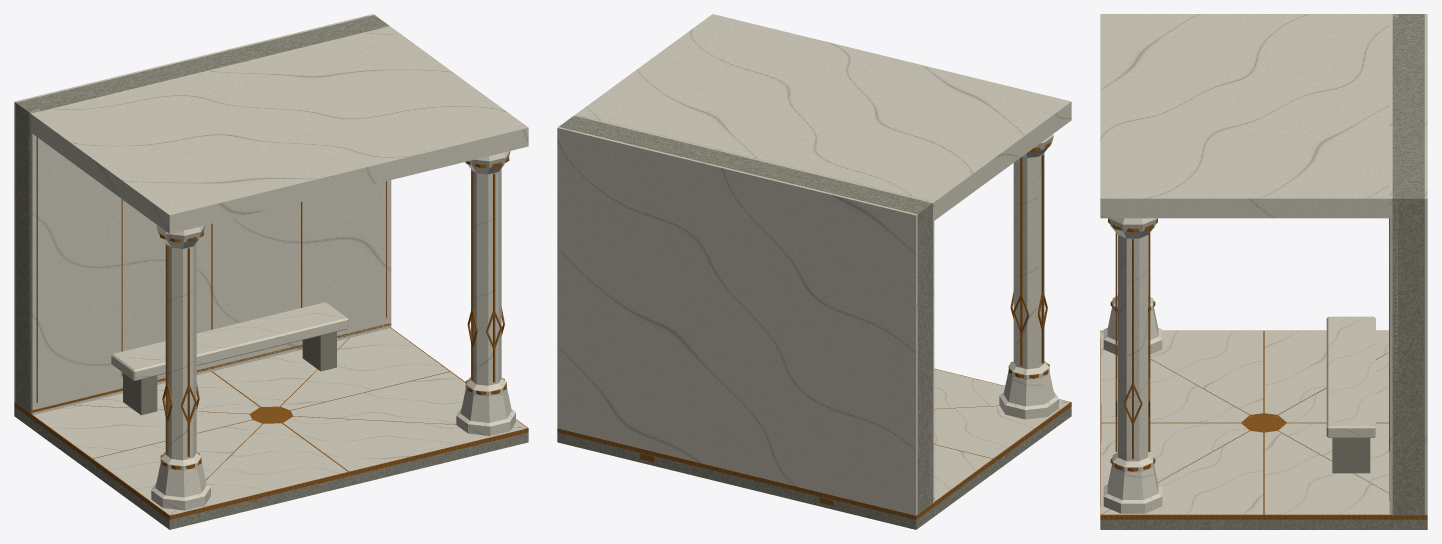
3 views of the same model, side by side, from view 1: azimuth 30°, elevation 25°; view 2: azimuth 150°, elevation 25°; view 3: azimuth 270°, elevation 25° (orthographic). The views are drawn at different scales.
Visible parts, largest first — view 1: Portico stone shade lintel, Replaceable marble facing panel, Bearing masonry wall segment, Marble pier stepped octagonal facing, Marble pier stepped octagonal facing.001, Replaceable flush radial marble floor sector.001, Quiet portico bench seat, Replaceable flush radial marble floor sector, Replaceable flush radial marble floor sector.003, Replaceable flush radial marble floor sector.006, Stone floor substrate, Replaceable flush radial marble floor sector.002 (+13 smaller); view 2: Replaceable marble facing panel.001, Portico stone shade lintel, Bearing masonry wall segment, Marble pier stepped octagonal facing, Stone floor substrate, Replaceable flush radial marble floor sector.007, Recessed continuous bronze inlay bed, Replaceable flush radial marble floor sector, Replaceable flush radial marble floor sector.006, Replaceable marble facing panel, Vertical bronze facing rail.002, Vertical bronze facing rail.001; view 3: Portico stone shade lintel, Bearing masonry wall segment, Marble pier stepped octagonal facing.001, Replaceable flush radial marble floor sector.003, Replaceable flush radial marble floor sector.002, Replaceable flush radial marble floor sector.007, Quiet portico bench seat, Replaceable flush radial marble floor sector.006, Replaceable flush radial marble floor sector, Replaceable flush radial marble floor sector.001, Recessed continuous bronze inlay bed, Stone floor substrate (+11 smaller).
Part boxes in pixels (<box>): Portico stone shade lintel: <box>32,27,528,233</box>; Replaceable marble facing panel: <box>31,26,391,414</box>; Bearing masonry wall segment: <box>15,15,389,413</box>; Marble pier stepped octagonal facing: <box>151,196,210,510</box>; Marble pier stepped octagonal facing.001: <box>456,122,515,435</box>; Replaceable flush radial marble floor sector.001: <box>283,416,526,471</box>; Quiet portico bench seat: <box>111,302,348,380</box>; Replaceable flush radial marble floor sector: <box>171,423,347,515</box>; Replaceable flush radial marble floor sector.003: <box>280,328,449,410</box>; Replaceable flush radial marble floor sector.006: <box>33,405,251,458</box>; Stone floor substrate: <box>14,406,528,529</box>; Replaceable flush radial marble floor sector.002: <box>291,372,526,427</box>; Replaceable marble facing panel.001: <box>557,127,917,515</box>; Portico stone shade lintel: <box>575,14,1071,220</box>; Bearing masonry wall segment: <box>559,115,932,514</box>; Marble pier stepped octagonal facing: <box>999,105,1058,419</box>; Stone floor substrate: <box>557,406,1071,529</box>; Replaceable flush radial marble floor sector.007: <box>934,402,1069,458</box>; Recessed continuous bronze inlay bed: <box>557,368,1071,519</box>; Replaceable flush radial marble floor sector: <box>934,369,1068,408</box>; Replaceable flush radial marble floor sector.006: <box>934,445,991,501</box>; Replaceable marble facing panel: <box>575,114,934,502</box>; Vertical bronze facing rail.002: <box>1020,157,1022,365</box>; Vertical bronze facing rail.001: <box>1041,154,1043,363</box>; Portico stone shade lintel: <box>1100,14,1389,218</box>; Bearing masonry wall segment: <box>1392,14,1424,514</box>; Marble pier stepped octagonal facing.001: <box>1103,184,1162,513</box>; Replaceable flush radial marble floor sector.003: <box>1264,431,1389,514</box>; Replaceable flush radial marble floor sector.002: <box>1102,431,1263,514</box>; Replaceable flush radial marble floor sector.007: <box>1102,331,1263,414</box>; Quiet portico bench seat: <box>1326,316,1375,437</box>; Replaceable flush radial marble floor sector.006: <box>1264,331,1388,414</box>; Replaceable flush radial marble floor sector: <box>1100,331,1249,422</box>; Replaceable flush radial marble floor sector.001: <box>1100,423,1249,514</box>; Recessed continuous bronze inlay bed: <box>1100,330,1427,519</box>; Stone floor substrate: <box>1100,519,1427,529</box>.
Bounding box in the file's own units: 4 × 3.35 × 3.
3 materials, 3 textured.
